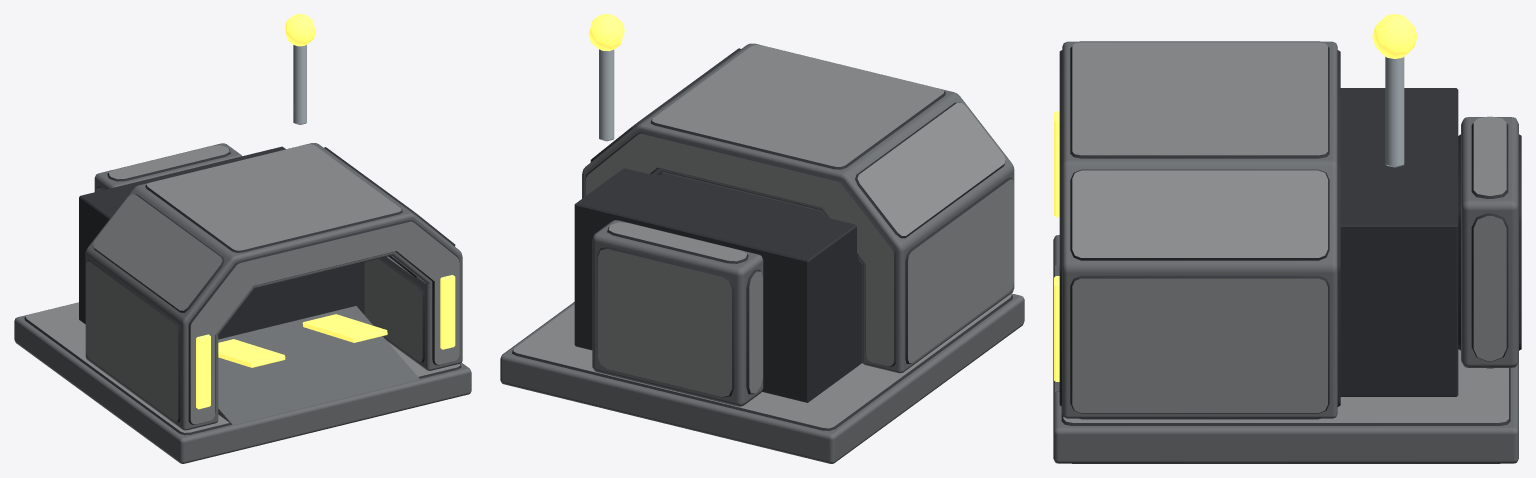
The model's file is R4X_GroundDroneDeployer.glb.
3 renders of one model, left to right at view 1: azimuth 30°, elevation 25°; view 2: azimuth 150°, elevation 25°; view 3: azimuth 270°, elevation 25°, orthographic. The views are drawn at different scales.
Parts seen in each view (by area): view 1: R4X_GroundDroneDeployer_Body; view 2: R4X_GroundDroneDeployer_Body; view 3: R4X_GroundDroneDeployer_Body.
Boxes of the visible parts, box(x1,y1,x2,y2) form: R4X_GroundDroneDeployer_Body: box(14, 14, 471, 463); R4X_GroundDroneDeployer_Body: box(500, 14, 1024, 463); R4X_GroundDroneDeployer_Body: box(1053, 14, 1521, 463).
Bounding box in the file's own units: 0.514 × 0.51 × 0.517.
